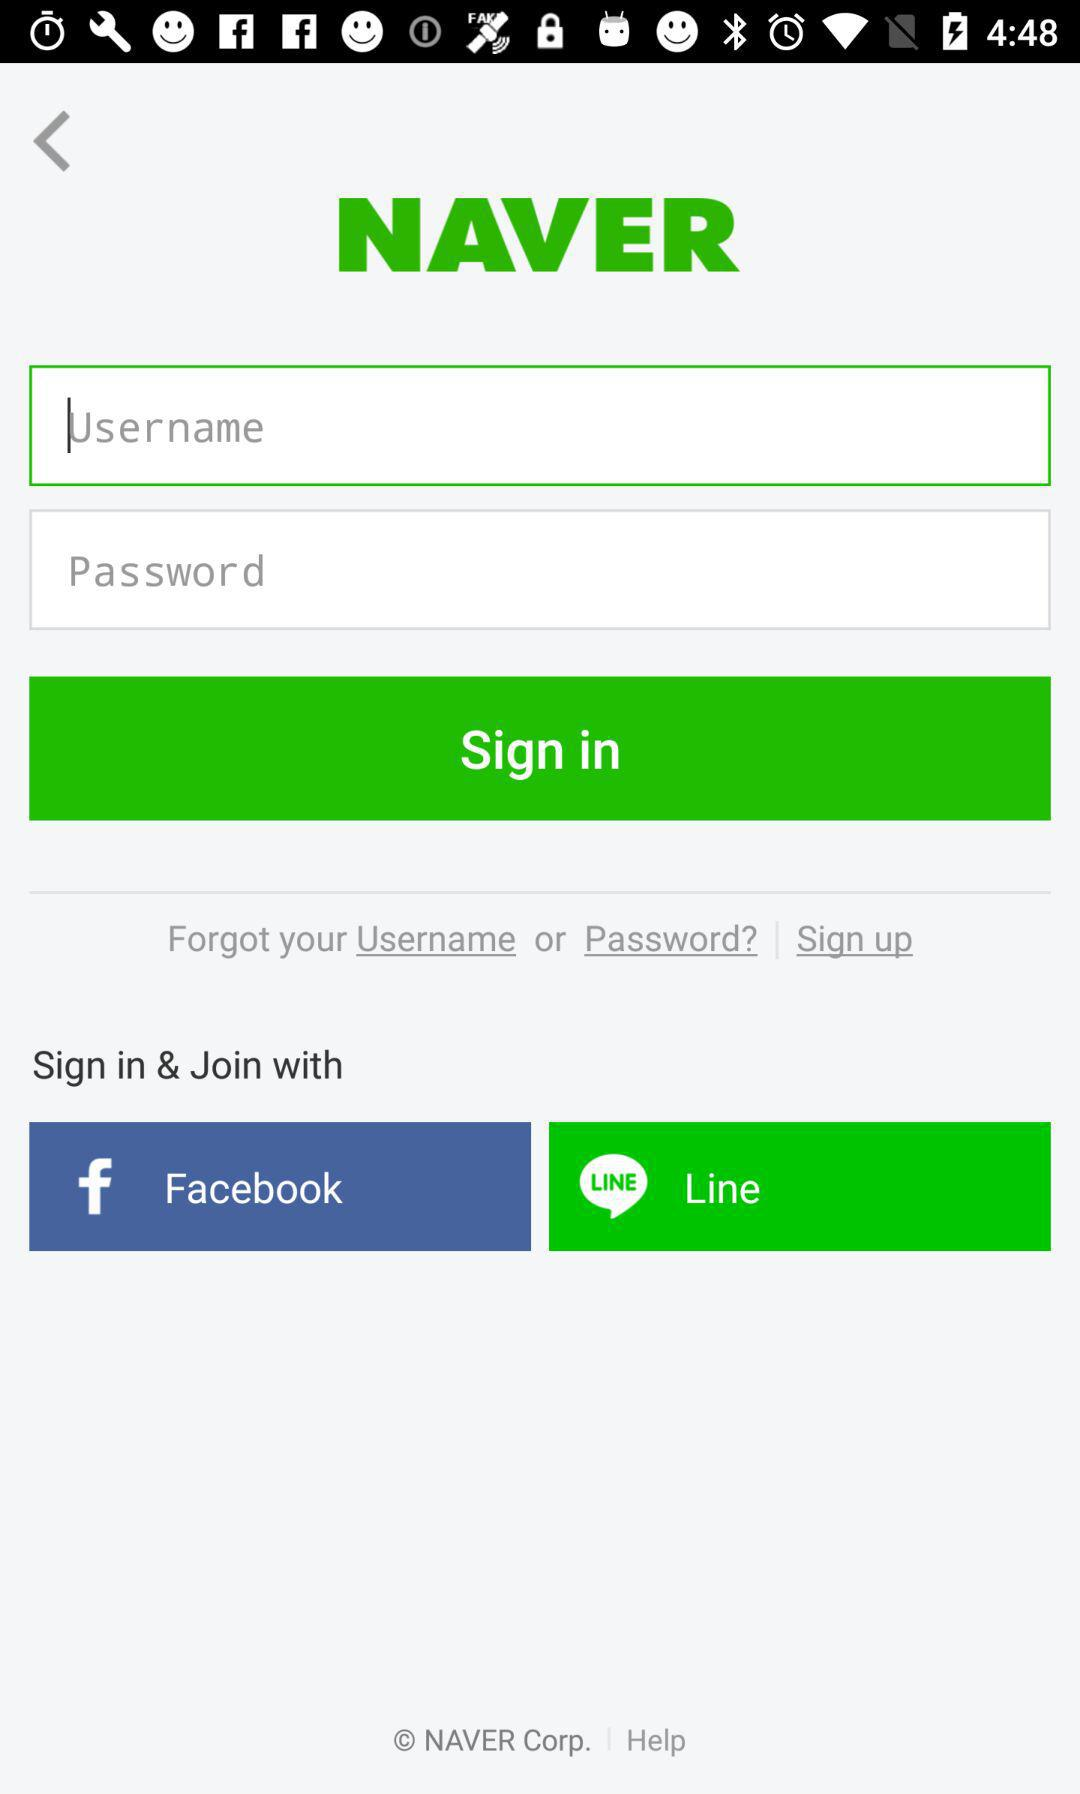EditText: (29, 509, 1052, 630), (29, 365, 1052, 487)
Icon: (33, 111, 72, 174)
Text: (338, 199, 742, 274), (170, 923, 758, 961), (35, 1049, 343, 1087), (392, 1726, 593, 1759), (70, 554, 264, 588), (69, 413, 264, 443), (796, 924, 913, 960), (625, 1726, 691, 1759)
TextButton: (29, 677, 1051, 821), (29, 1123, 532, 1252), (550, 1123, 1052, 1252)
UpperTaskBar: (1, 1, 1080, 64)
